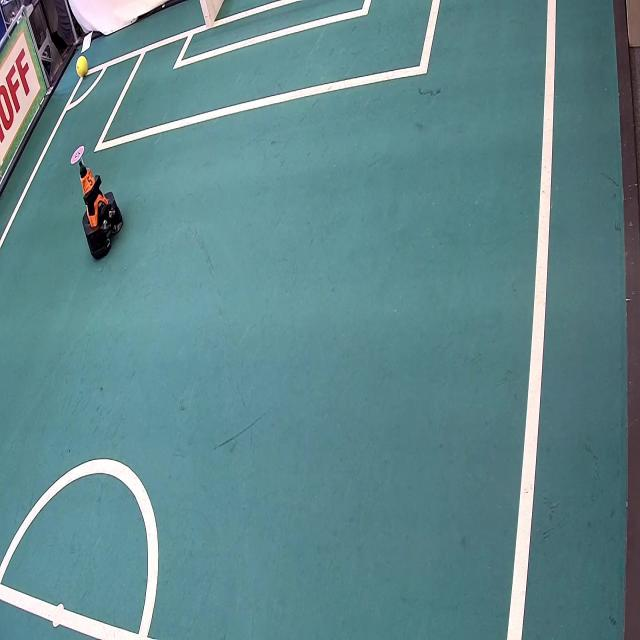Robots: (69, 146, 126, 264)
